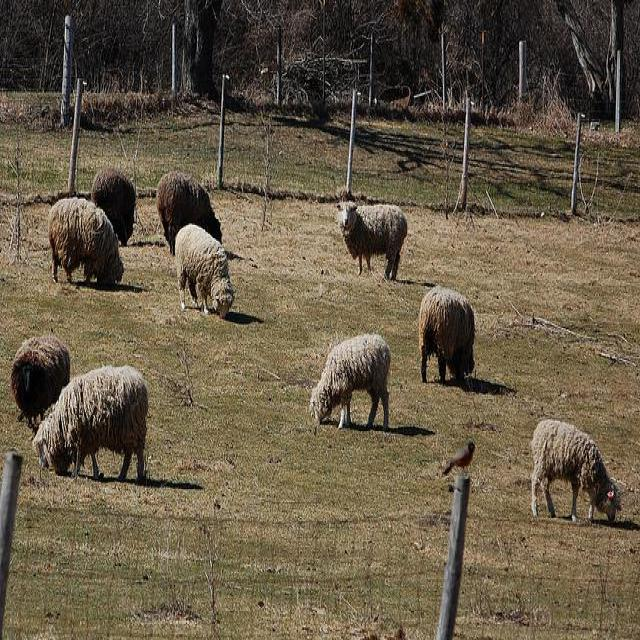Sheep: (34, 367, 150, 488), (530, 420, 622, 522), (306, 329, 395, 434), (49, 198, 126, 288), (417, 284, 481, 390), (154, 172, 223, 256), (176, 224, 236, 320), (336, 202, 407, 282), (11, 340, 72, 430), (91, 167, 136, 254)
